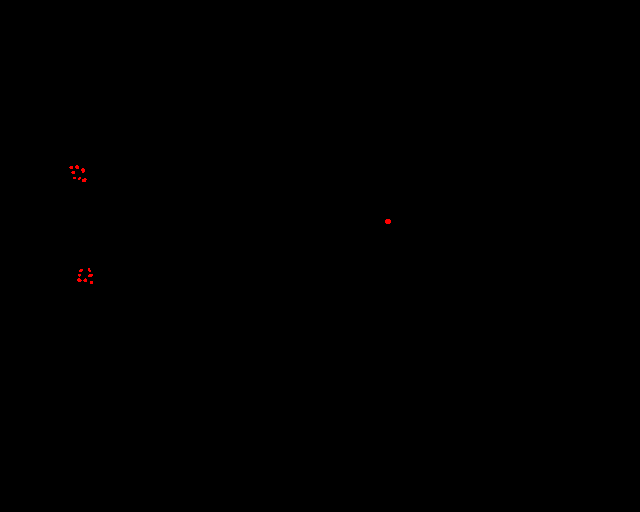Target: (385, 219, 391, 224), (81, 168, 85, 173), (82, 178, 87, 182), (77, 278, 82, 282), (75, 165, 79, 169), (83, 278, 87, 282), (88, 274, 93, 277), (69, 166, 73, 169), (71, 171, 75, 174), (88, 268, 91, 272), (79, 269, 83, 272), (78, 177, 81, 180), (78, 274, 81, 277), (90, 281, 93, 284), (73, 177, 76, 179)
